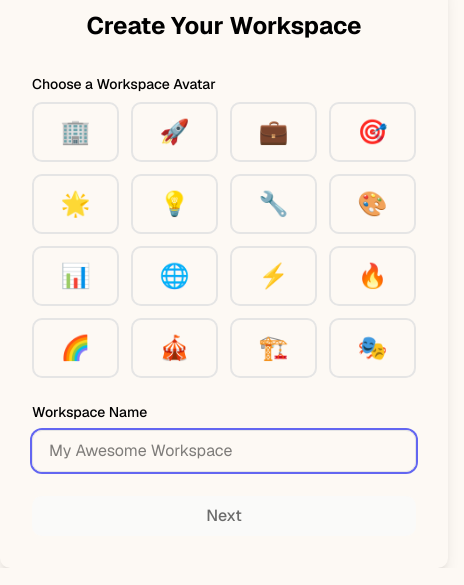
Test: CreateWorkspaceForm › validates workspace name length
Expected: the button "Next" is disabled, [32,496,416,536]
# Type a short name
Step 1. Type "ab" into the field with placeholder "My Awesome Workspace" → (224, 451), box [32,430,416,472]
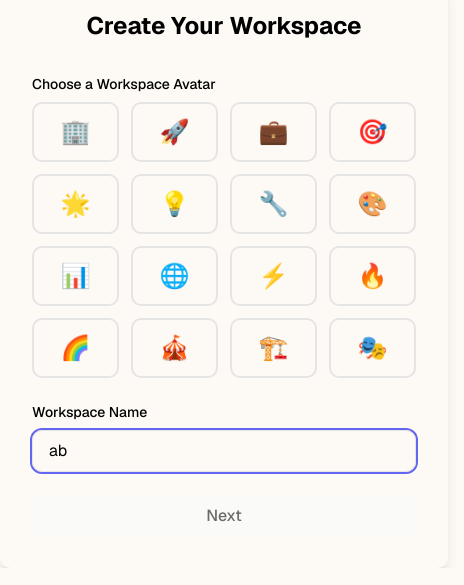
Expected: the button "Next" is disabled, [32,496,416,536]
# Type a valid name
Step 2. Replace the text in the field with placeholder "My Awesome Workspace" with "My Workspace" → (224, 451), box [32,430,416,472]
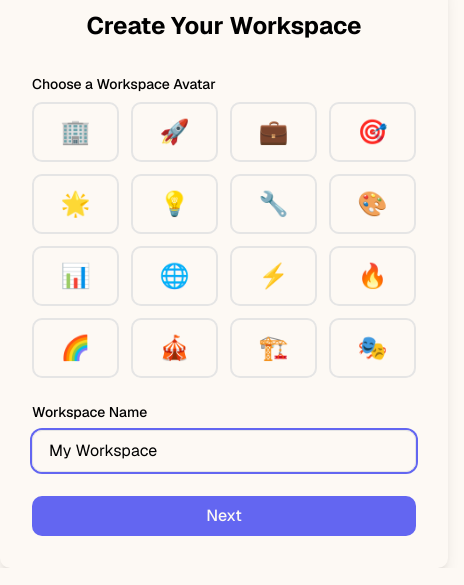
Expected: the button "Next" is enabled, [32,496,416,536]
